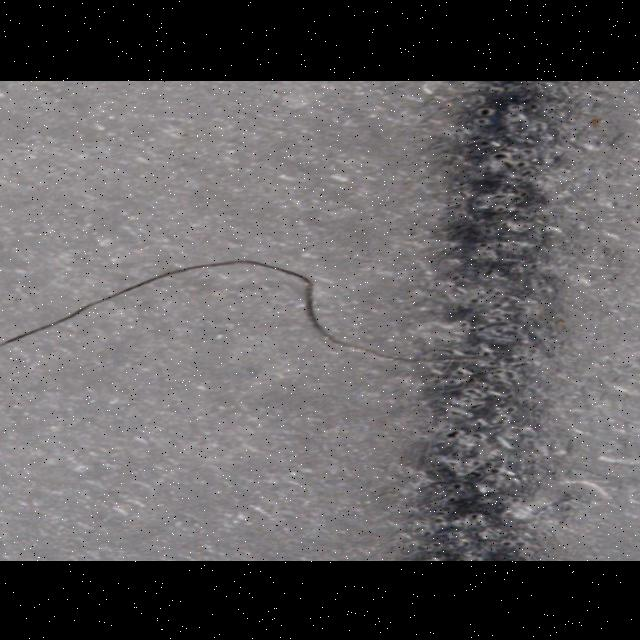Fibre: (0, 256, 494, 366)
